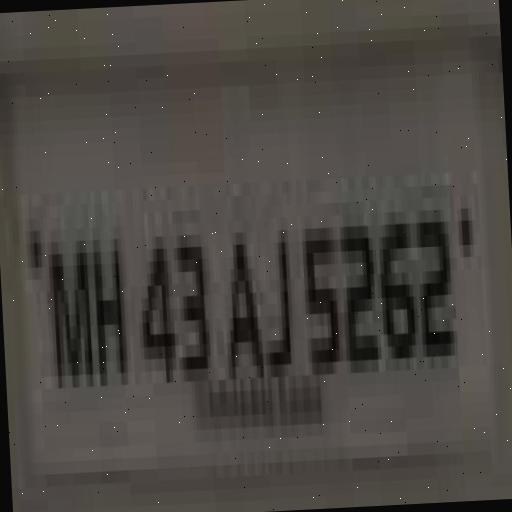number plate: (0, 97, 498, 476)
